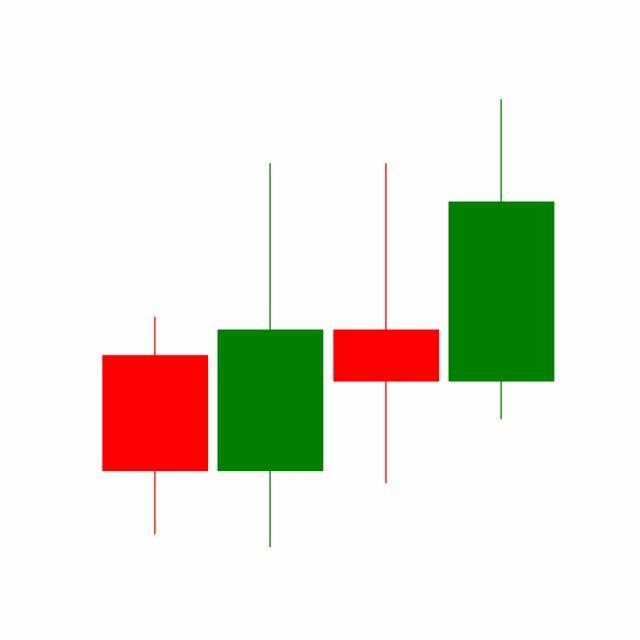Spinning Top: (329, 160, 445, 488)
